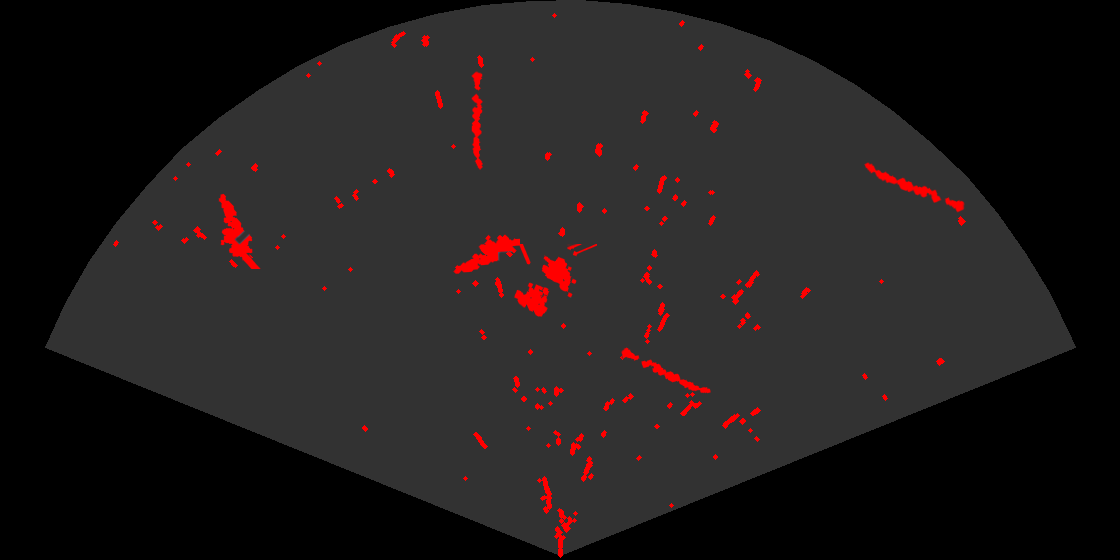cage: (513, 244, 597, 318)
chain: (863, 161, 967, 214), (620, 346, 712, 395), (470, 69, 484, 170)
frogman: (217, 192, 262, 269), (452, 233, 520, 275)
